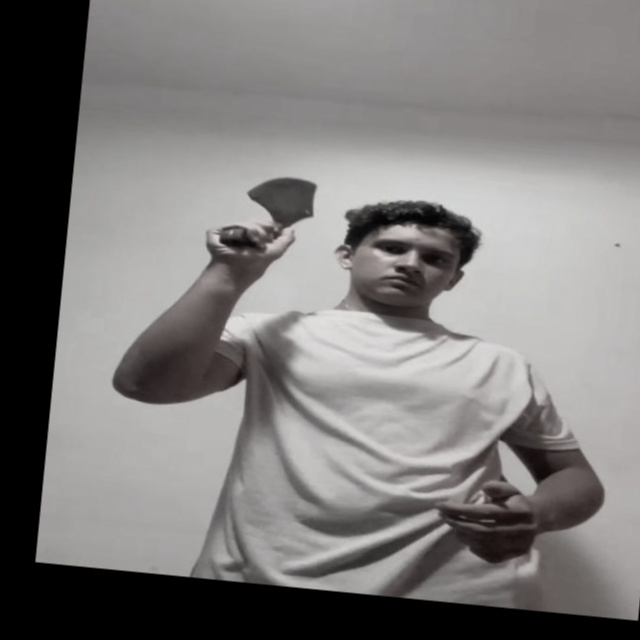Sharp-Object: (241, 171, 329, 227)
